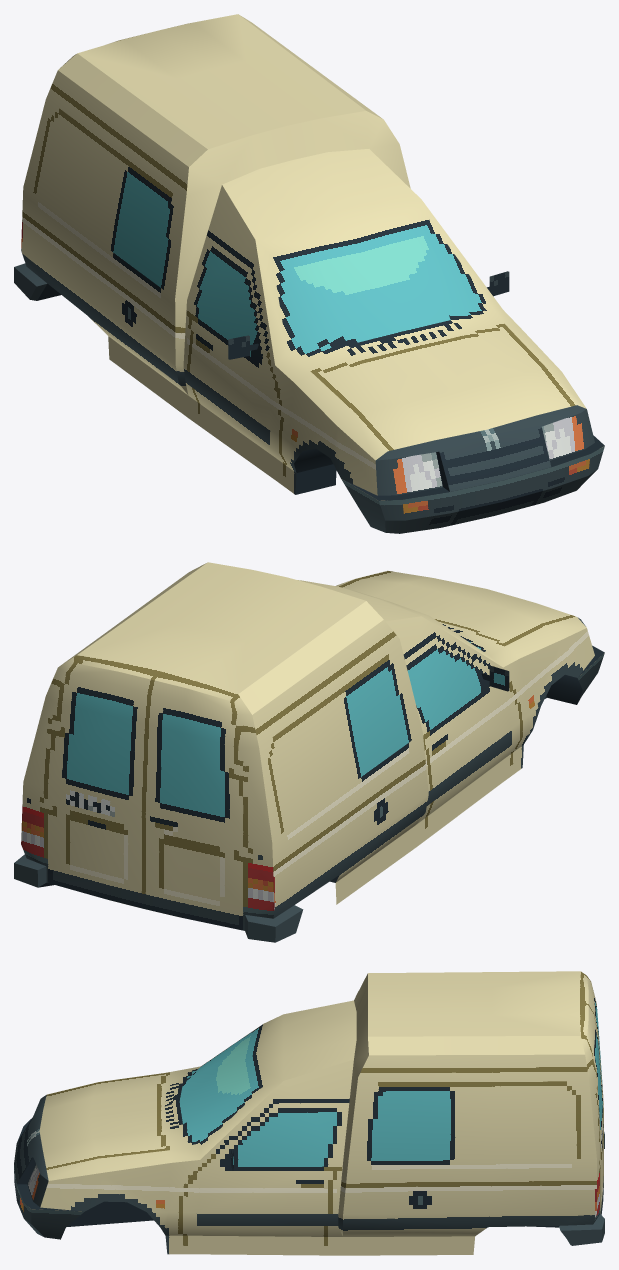
File: citroenc15.glb
3 views of the same model, one above another, from view 1: azimuth 30°, elevation 25°; view 2: azimuth 150°, elevation 25°; view 3: azimuth 270°, elevation 25° (orthographic). The views are drawn at different scales.
Visible parts, largest first — view 1: Body; view 2: Body; view 3: Body.
Part boxes in pixels (x1,y1,x2,y2): Body: (14,14,604,533); Body: (14,562,604,942); Body: (14,971,604,1255).
Bounding box in the file's own units: 1.79 × 1.55 × 3.96.
Materials: 1 (1 with a texture image).
